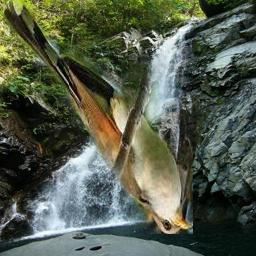Cuckoo: (3, 0, 193, 234)
